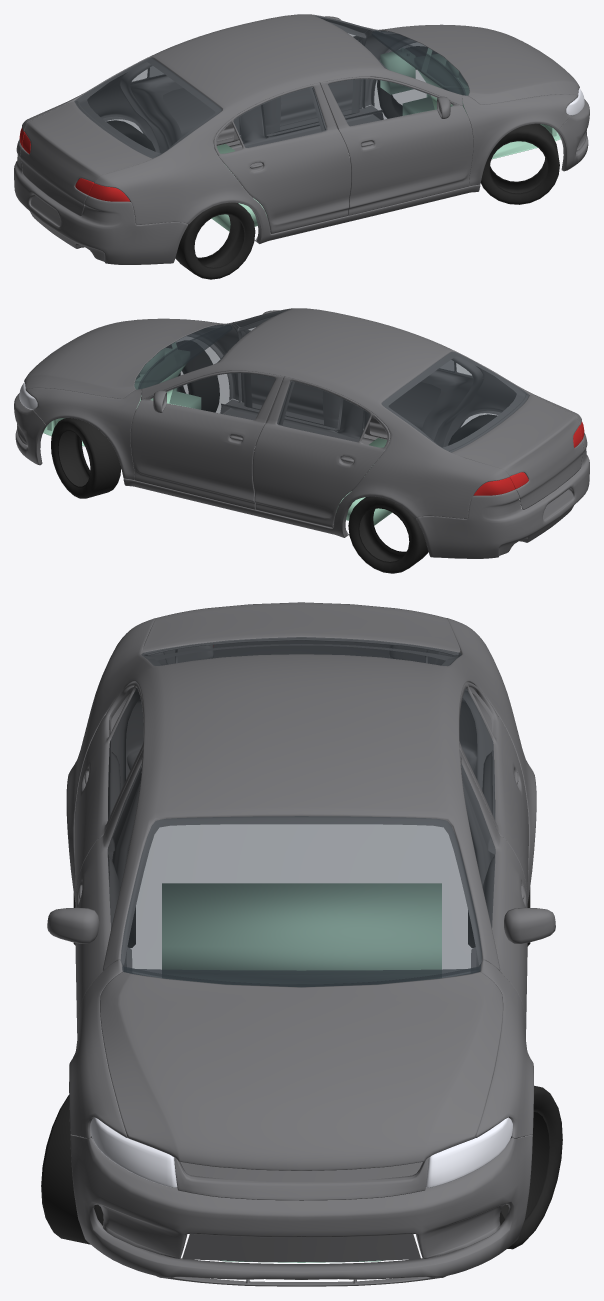
The model's file is sedan.glb.
3 views of the same model, one above another, from view 1: azimuth 30°, elevation 25°; view 2: azimuth 150°, elevation 25°; view 3: azimuth 270°, elevation 25° (orthographic). The views are drawn at different scales.
Parts seen in each view (by area): view 1: sedan-unibody.001, door-front-r.001, door-rear-r.001, glass-rear.001, hood.001, trunk.001, bumper-rear.001, fender-front-r.001, door-rear-window-glass-r.001, door-rear-l.001, tyre_rr_tyre, door-front-window-glass-r.001 (+13 smaller); view 2: sedan-unibody.001, door-front-l.001, door-rear-l.001, glass-rear.001, hood.001, trunk.001, bumper-rear.001, tyre_fl_tyre, fender-front-l.001, door-rear-window-glass-l.001, door-rear-r.001, tyre_rl_tyre (+11 smaller); view 3: sedan-unibody.001, hood.001, windshield.001, bumper-front.001, zone_fuel, trunk.001, honeycomb-grill-pattern.001, fender-front-r.001, fender-front-l.001, door-front-r.001, door-front-l.001, glass-rear.001 (+16 smaller).
Part boxes in pixels (x1,y1,x2,y2): sedan-unibody.001: (19, 14, 480, 243); door-front-r.001: (320, 76, 473, 215); door-rear-r.001: (213, 83, 351, 233); glass-rear.001: (74, 57, 222, 158); hood.001: (379, 24, 579, 104); trunk.001: (20, 101, 154, 216); bumper-rear.001: (14, 139, 188, 264); fender-front-r.001: (462, 94, 577, 186); door-rear-window-glass-r.001: (233, 87, 326, 147); door-rear-l.001: (121, 68, 239, 146); tyre_rr_tyre: (175, 202, 255, 279); door-front-window-glass-r.001: (328, 78, 434, 126); sedan-unibody.001: (123, 308, 584, 537); door-front-l.001: (130, 370, 283, 509); door-rear-l.001: (252, 377, 390, 527); glass-rear.001: (381, 351, 529, 452); hood.001: (24, 318, 224, 398); trunk.001: (449, 395, 583, 509); bumper-rear.001: (415, 433, 589, 558); tyre_fl_tyre: (51, 418, 121, 498); fender-front-l.001: (26, 388, 141, 480); door-rear-window-glass-l.001: (277, 380, 370, 441); door-rear-r.001: (364, 362, 482, 440); tyre_rl_tyre: (348, 496, 428, 573); sedan-unibody.001: (66, 618, 536, 970); hood.001: (100, 972, 503, 1170); windshield.001: (120, 816, 482, 986); bumper-front.001: (70, 1135, 532, 1286); zone_fuel: (162, 883, 441, 970); trunk.001: (143, 602, 460, 664); honeycomb-grill-pattern.001: (182, 1234, 420, 1261); fender-front-r.001: (69, 960, 127, 1138); fender-front-l.001: (476, 960, 533, 1138); door-front-r.001: (75, 749, 143, 1032); door-front-l.001: (459, 749, 527, 1029); glass-rear.001: (141, 637, 461, 665).
Size of the model in its own units: 4.98 by 1.5 by 2.16.
